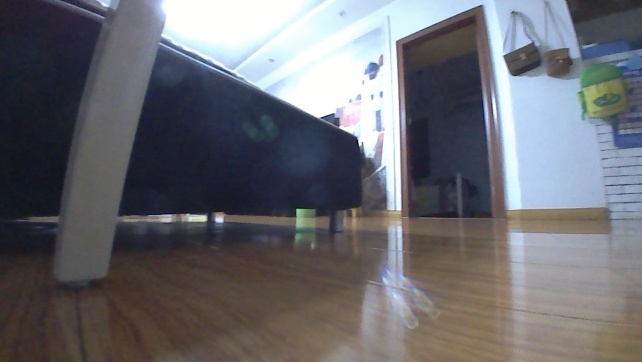bed1: (412, 171, 478, 220)
sofa1: (0, 0, 367, 234)
